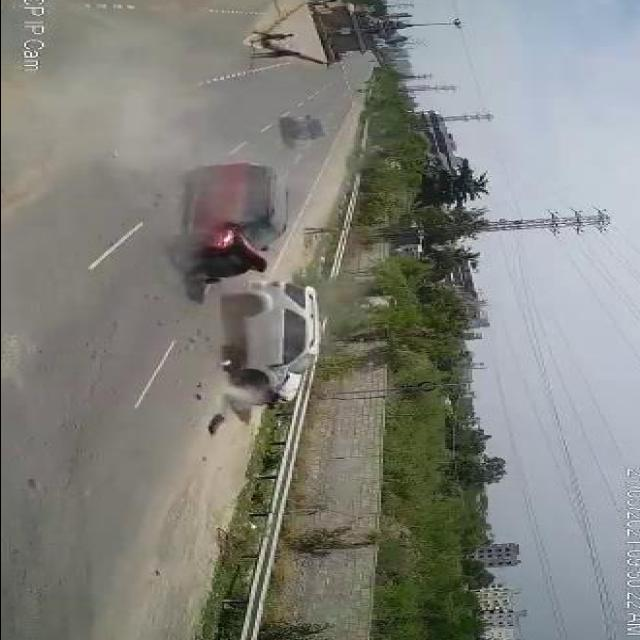accident: (155, 150, 343, 441)
